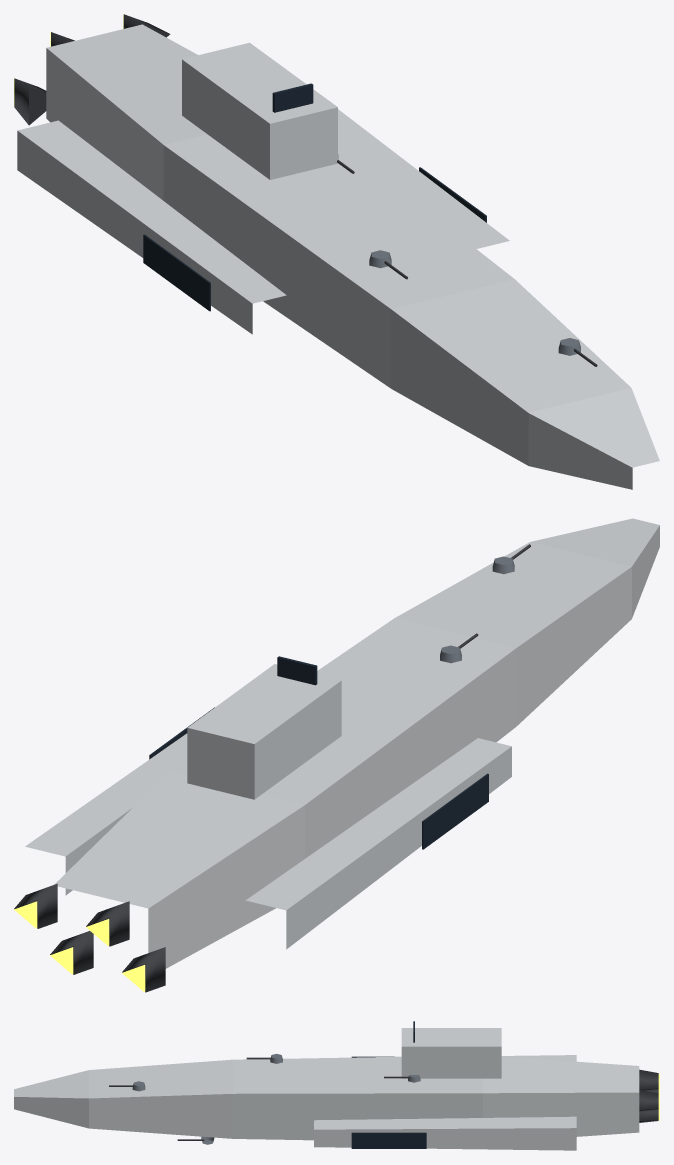
The model's file is space_ship_cruiser_mk1_lod2.glb.
3 views of the same model, one above another, from view 1: azimuth 30°, elevation 25°; view 2: azimuth 150°, elevation 25°; view 3: azimuth 270°, elevation 25° (orthographic). The views are drawn at different scales.
Parts seen in each view (by area): view 1: body, hangar_r, engine_0; view 2: body, hangar_r, engine_0, engine_1, engine_3, engine_2; view 3: body, hangar_l, engine_3, engine_1, engine_2.
Part boxes in pixels (x1=…): body: x1=17, y1=24, x2=659, y2=489; hangar_r: x1=143, y1=234, x2=210, y2=311; engine_0: x1=14, y1=78, x2=46, y2=125; body: x1=25, y1=518, x2=659, y2=968; hangar_r: x1=422, y1=773, x2=488, y2=849; engine_0: x1=122, y1=947, x2=165, y2=992; engine_1: x1=86, y1=901, x2=129, y2=946; engine_3: x1=14, y1=883, x2=57, y2=928; engine_2: x1=50, y1=931, x2=93, y2=974; body: x1=14, y1=1021, x2=639, y2=1150; hangar_l: x1=351, y1=1132, x2=426, y2=1148; engine_3: x1=639, y1=1090, x2=659, y2=1111; engine_1: x1=639, y1=1069, x2=659, y2=1090; engine_2: x1=639, y1=1109, x2=659, y2=1122.
Size of the model in its own units: 18.56 by 12 by 66.12.
